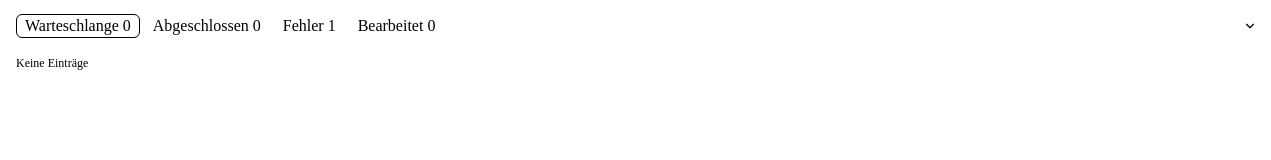
Scenario: TransferPanel › offers no retry for failed edit uploads (saving again retries)
Click the tab "Fehler 1". click: (309, 26)
box: [274,14,345,38]
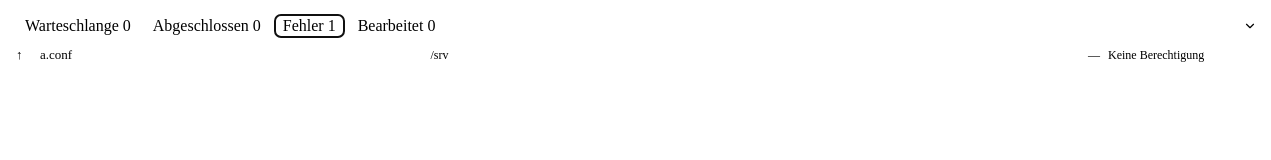
Now the text "a.conf" is shown, box [40,47,72,62]
